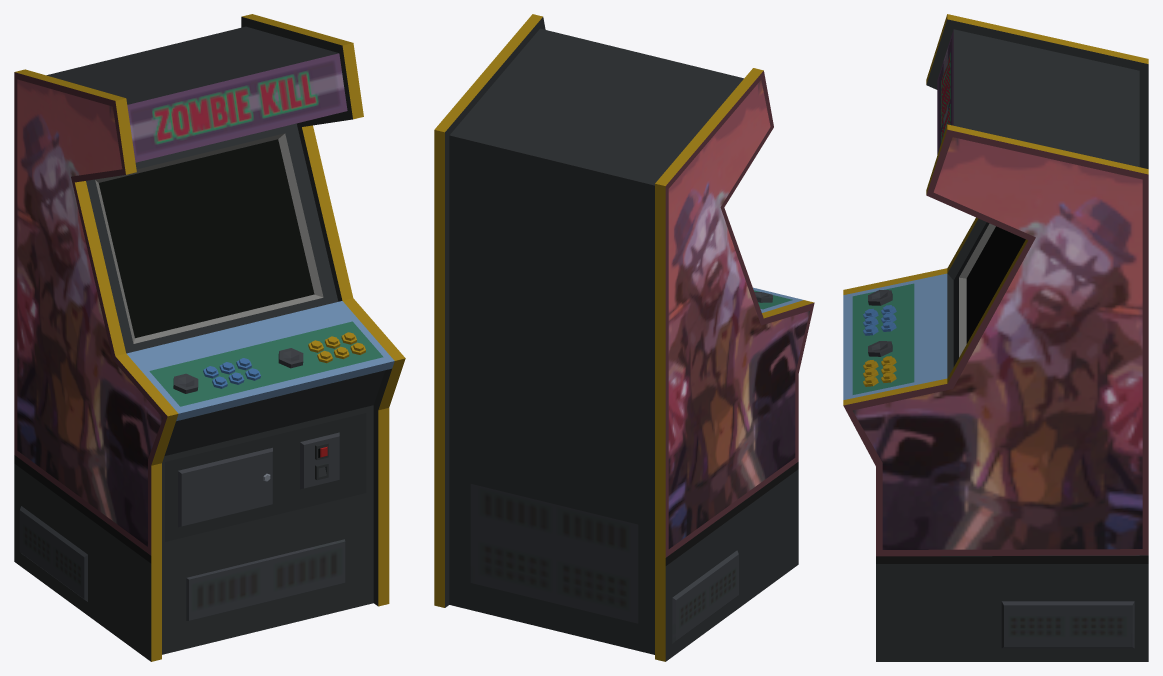
File: SM_Prop_Arcade_Machine_Zombie_01.obj
3 views of the same model, side by side, from view 1: azimuth 30°, elevation 25°; view 2: azimuth 150°, elevation 25°; view 3: azimuth 270°, elevation 25° (orthographic). The views are drawn at different scales.
Visible parts, largest first — view 1: SM_Prop_Arcade_Machine_Zombie_01_0; view 2: SM_Prop_Arcade_Machine_Zombie_01_0; view 3: SM_Prop_Arcade_Machine_Zombie_01_0.
Boxes of the visible parts, x1,y1,x2,y2 form: SM_Prop_Arcade_Machine_Zombie_01_0: [14, 14, 405, 661]; SM_Prop_Arcade_Machine_Zombie_01_0: [434, 14, 814, 661]; SM_Prop_Arcade_Machine_Zombie_01_0: [843, 14, 1148, 661].
Bounding box in the file's own units: 0.9174 × 1.93 × 1.
Materials: 1 (1 with a texture image).
